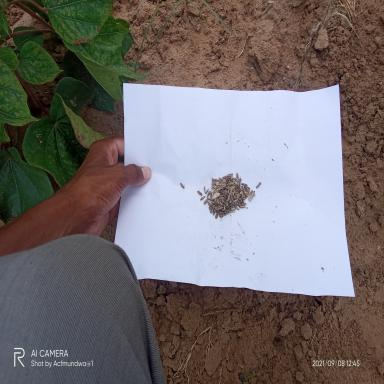pbw: (196, 190, 202, 196), (180, 182, 184, 191), (203, 197, 208, 204), (243, 186, 250, 191), (211, 186, 216, 192), (240, 202, 247, 206), (200, 196, 205, 201), (236, 193, 241, 198), (205, 187, 209, 193), (219, 201, 223, 207), (216, 197, 219, 205), (222, 188, 228, 192), (209, 206, 212, 214), (224, 208, 230, 212), (215, 212, 218, 219), (227, 194, 230, 201), (239, 205, 246, 208), (236, 173, 239, 180), (239, 184, 242, 191), (230, 185, 234, 190), (214, 178, 219, 182), (225, 185, 230, 189), (233, 179, 237, 184), (218, 206, 223, 210), (228, 173, 233, 177), (218, 177, 223, 181), (219, 194, 225, 197), (207, 190, 210, 196), (229, 210, 235, 213), (241, 183, 247, 186), (227, 188, 230, 194), (210, 185, 216, 188), (233, 199, 239, 202), (235, 206, 239, 210), (242, 196, 246, 200), (239, 177, 241, 185), (223, 179, 227, 183), (233, 194, 236, 199), (237, 180, 239, 187), (235, 191, 237, 198), (229, 190, 232, 194), (218, 211, 222, 214), (234, 202, 238, 205), (215, 206, 218, 210), (222, 176, 228, 178), (208, 202, 211, 206), (243, 191, 249, 193), (232, 189, 236, 192), (232, 177, 236, 180), (222, 214, 226, 217), (226, 202, 229, 206), (238, 197, 242, 200), (245, 192, 248, 196), (240, 191, 243, 195), (221, 192, 226, 194), (231, 208, 236, 210), (232, 199, 234, 204), (213, 210, 215, 215), (250, 190, 252, 194), (242, 186, 244, 190), (230, 177, 232, 181), (214, 198, 216, 202), (215, 182, 217, 186), (204, 186, 205, 192), (217, 184, 220, 186), (224, 204, 225, 210)
